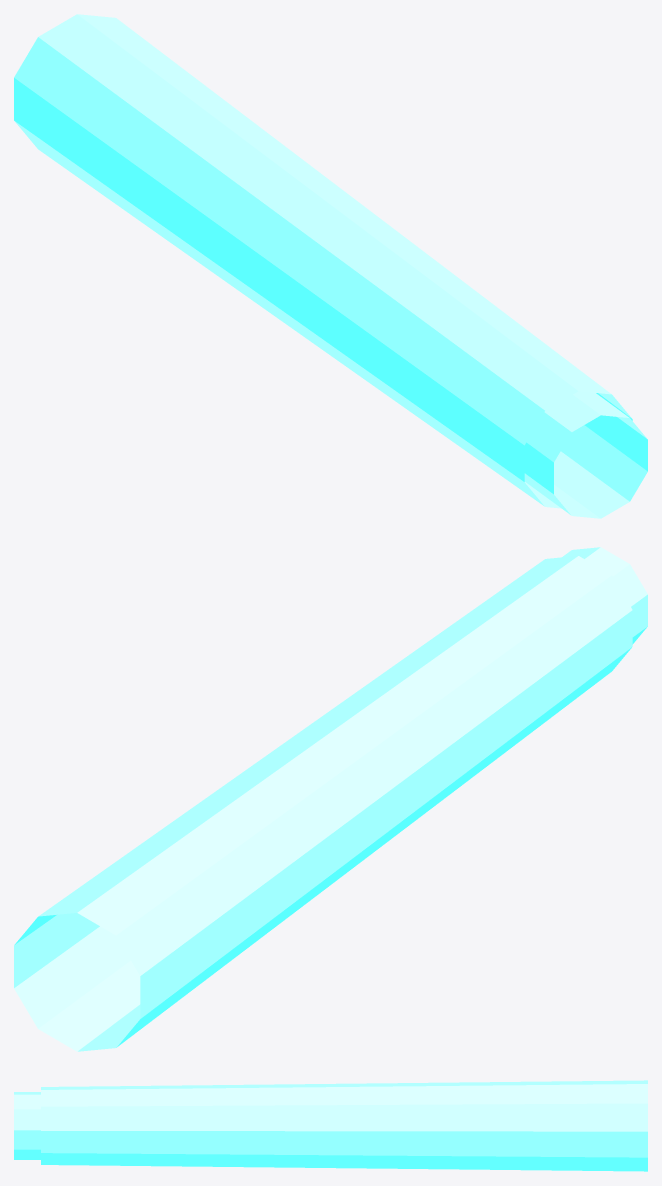
Rendered from nitro.fbx.
The picture shows the model from 3 angles, top to bottom: view 1: azimuth 30°, elevation 25°; view 2: azimuth 150°, elevation 25°; view 3: azimuth 270°, elevation 25°; orthographic projection. The views are drawn at different scales.
Parts seen in each view (by area): view 1: nitro-2, nitro-1; view 2: nitro-2, nitro-1; view 3: nitro-2, nitro-1.
Part boxes in pixels (left/top/right/bottom): nitro-2: left=14, top=14, right=632, bottom=508; nitro-1: left=524, top=391, right=647, bottom=518; nitro-2: left=14, top=555, right=632, bottom=1051; nitro-1: left=562, top=547, right=647, bottom=644; nitro-2: left=41, top=1080, right=647, bottom=1171; nitro-1: left=14, top=1092, right=40, bottom=1159.
Bounding box in the file's own units: 13.03 × 13.7 × 93.61.
